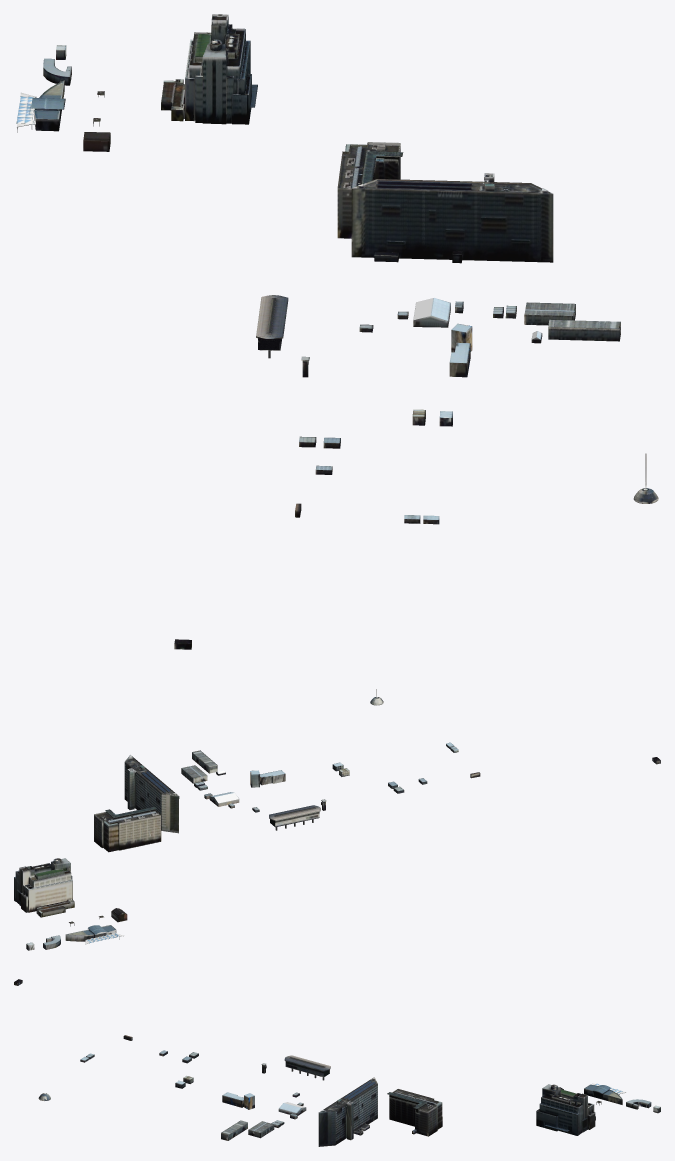
File: 53393641_bldg_6677.fbx
The picture shows the model from 3 angles, top to bottom: view 1: azimuth 30°, elevation 25°; view 2: azimuth 150°, elevation 25°; view 3: azimuth 270°, elevation 25°; orthographic projection. The views are drawn at different scales.
Parts seen in each view (by area): view 1: plateau_merged.030, plateau_merged.008, plateau_merged.032, plateau_merged.020, plateau_merged, plateau_merged.025, plateau_merged.021, plateau_merged.014; view 2: plateau_merged.032, plateau_merged.008, plateau_merged.030, plateau_merged, plateau_merged.020, plateau_merged.006; view 3: plateau_merged.030, plateau_merged.008, plateau_merged.032, plateau_merged, plateau_merged.020, plateau_merged.025, plateau_merged.021, plateau_merged.014.
Boxes of the visible parts, box(x1,y1,x2,y2) form: plateau_merged.030: box(351, 173, 553, 263); plateau_merged.008: box(185, 14, 257, 124); plateau_merged.032: box(337, 142, 403, 238); plateau_merged.020: box(16, 80, 65, 132); plateau_merged: box(256, 295, 288, 358); plateau_merged.025: box(548, 319, 620, 341); plateau_merged.021: box(524, 302, 575, 325); plateau_merged.014: box(413, 298, 450, 327); plateau_merged.032: box(94, 806, 161, 852); plateau_merged.008: box(14, 858, 72, 912); plateau_merged.030: box(124, 755, 179, 833); plateau_merged: box(269, 805, 320, 830); plateau_merged.020: box(65, 925, 123, 944); plateau_merged.006: box(36, 899, 74, 917); plateau_merged.030: box(318, 1077, 377, 1146); plateau_merged.008: box(536, 1084, 595, 1135); plateau_merged.032: box(387, 1089, 442, 1136); plateau_merged: box(284, 1055, 330, 1080); plateau_merged.020: box(584, 1083, 626, 1104); plateau_merged.025: box(221, 1120, 247, 1140); plateau_merged.021: box(248, 1121, 274, 1138); plateau_merged.014: box(278, 1102, 306, 1115).
Size of the model in its own units: 465 by 52.05 by 767.
34 materials, 34 textured.
